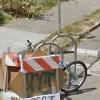Bicycle: (24, 31, 88, 91)
